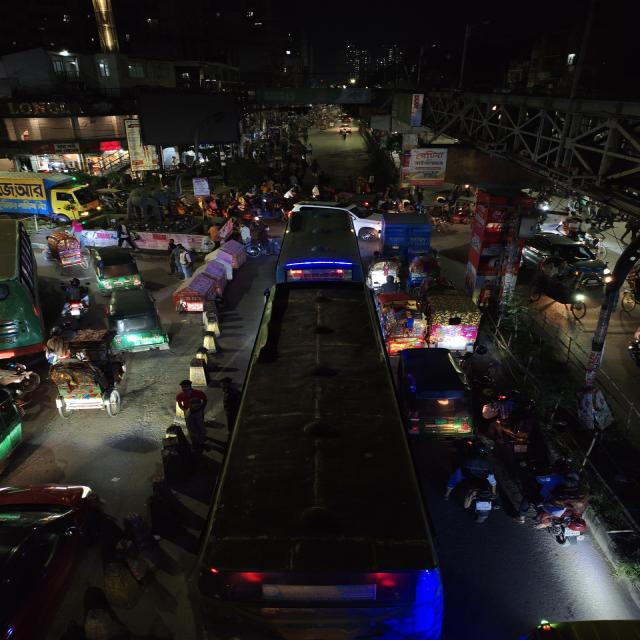bus: (212, 281, 435, 639), (274, 202, 366, 286), (0, 214, 45, 355)
car: (0, 480, 106, 639), (517, 232, 610, 282)
cng: (389, 346, 475, 438), (105, 288, 172, 356), (90, 247, 146, 291)
motorcycle: (440, 462, 502, 524), (518, 497, 580, 543), (0, 358, 39, 401), (58, 276, 93, 320)
pedestrian: (170, 379, 213, 437), (168, 242, 195, 280), (238, 219, 256, 247)
rickshaw: (45, 356, 134, 419), (422, 276, 488, 348), (384, 296, 429, 348), (44, 231, 89, 269), (617, 260, 640, 324), (407, 250, 442, 284), (369, 253, 404, 285), (357, 224, 382, 242)
truck: (8, 171, 97, 223), (378, 213, 436, 255)
